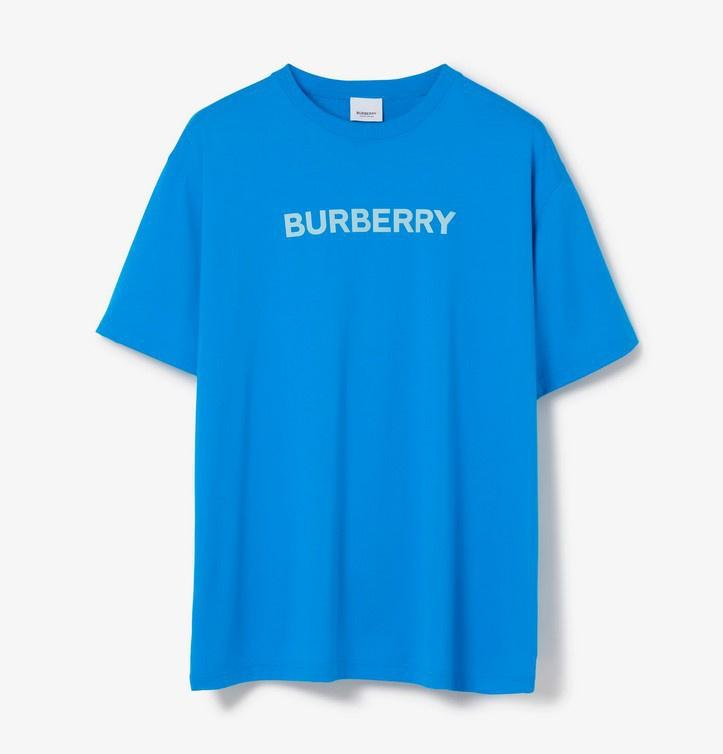BURBERRY: (284, 208, 456, 238)
